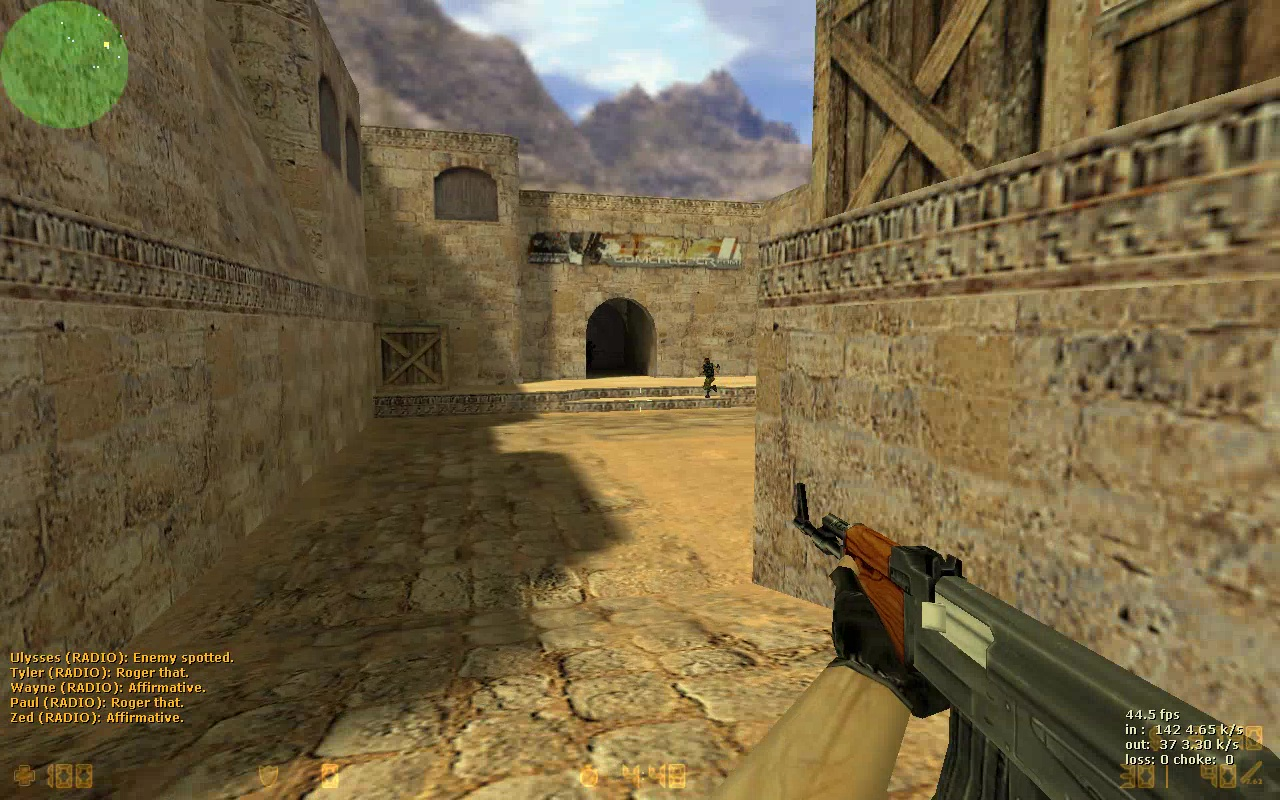terr1: (701, 359, 719, 402)
